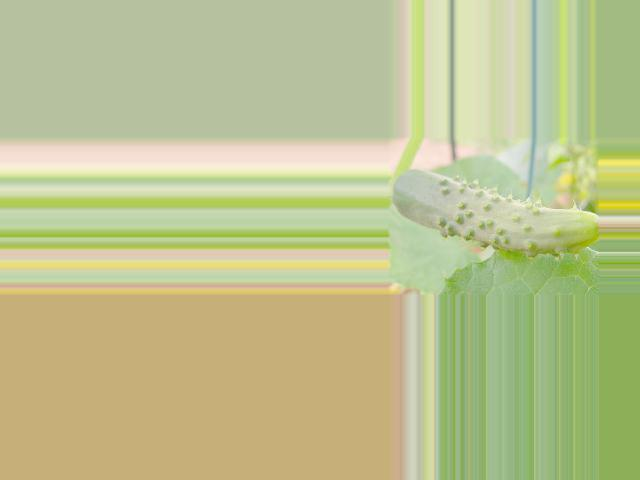cucumber: (391, 169, 598, 257)
